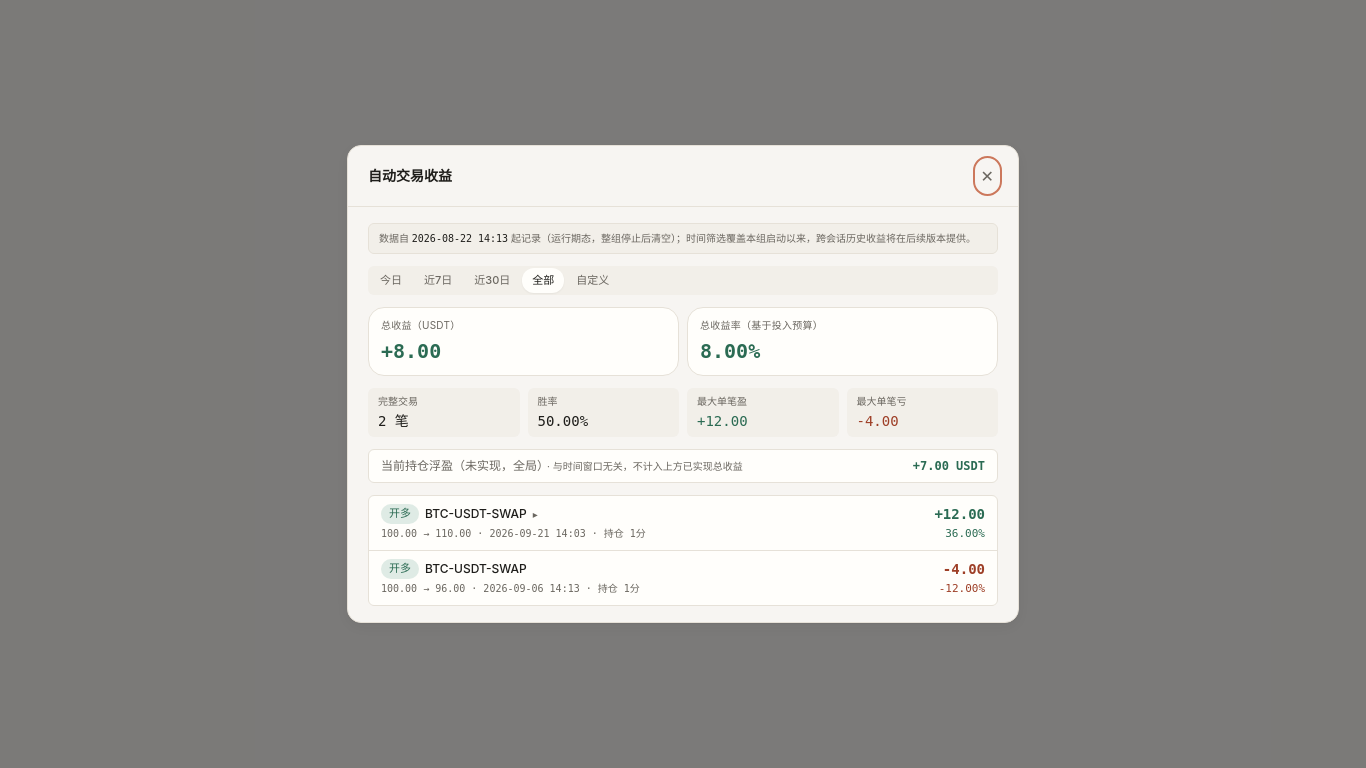
Test: AutoTradePnlPanel › recomputes the summary and list when switching the time window
Check: the text "2 笔" is shown, box [378,413,409,429]
Click the button "近7日" at {"x": 438, "y": 281}, box [414,268,462,293]
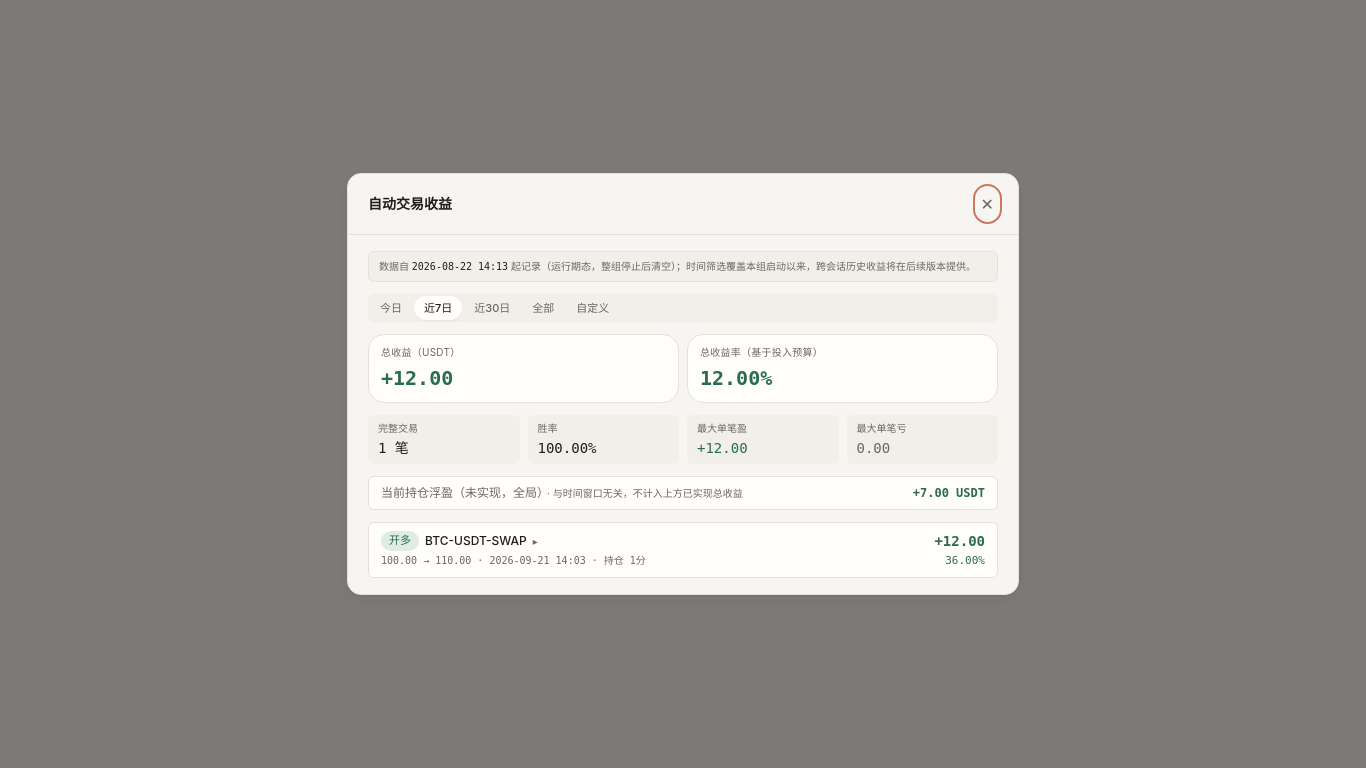
Check: the text "2 笔" is gone
Check: the text "1 笔" is shown, box [378,440,409,456]
Check: the button "-12.00%" is gone
